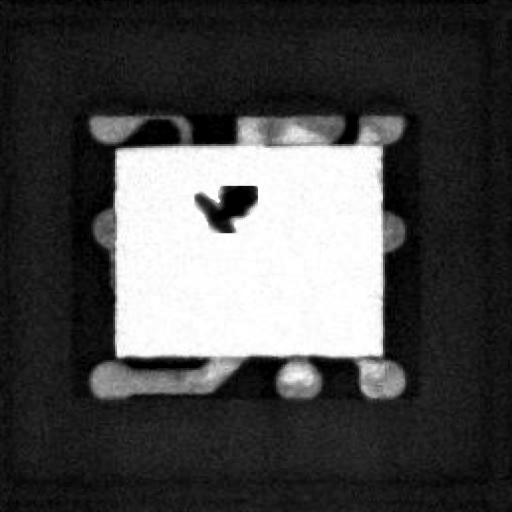DIE_INK: (184, 193, 243, 240)
